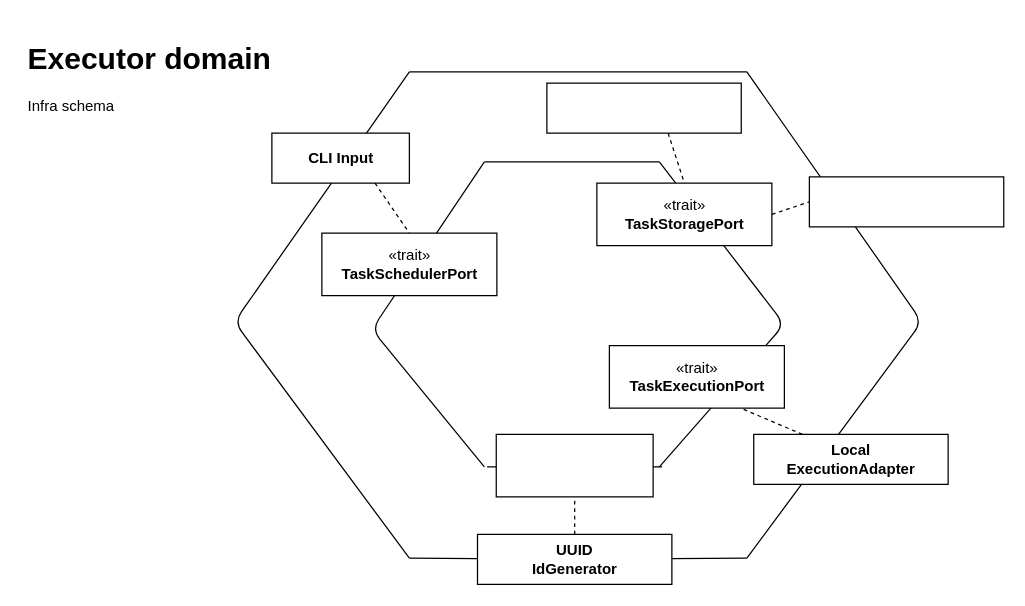
The diagram is 1025 pixels wide and 606 high, and some of its shapes have lost their labels. The shapes that lost their labels are listed below. From the top down, each one's box as (x1, y1, x2, y2) in pixels, then its label:
(546, 82, 741, 133): InMemory StorageAdapter
(808, 176, 1004, 227): Database StorageAdapter
(495, 433, 653, 497): «trait» IdGeneratorPort
